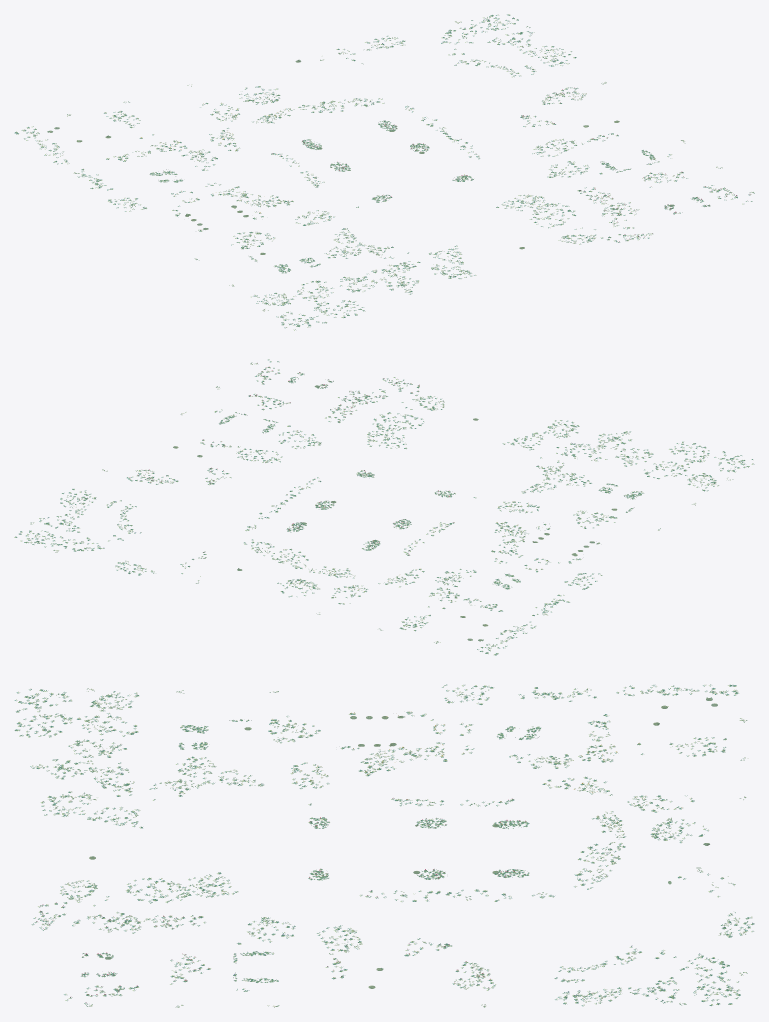
The model's file is sunwen-landscape-fast.glb.
3 views of the same model, one above another, from view 1: azimuth 30°, elevation 25°; view 2: azimuth 150°, elevation 25°; view 3: azimuth 270°, elevation 25° (orthographic). The views are drawn at different scales.
Visible parts, largest first — view 1: Sunwen_Tended_Beds_Low; view 2: Sunwen_Tended_Beds_Low; view 3: Sunwen_Tended_Beds_Low.
Boxes of the visible parts, x1,y1,x2,y2 form: Sunwen_Tended_Beds_Low: (14,14,754,330); Sunwen_Tended_Beds_Low: (14,359,754,655); Sunwen_Tended_Beds_Low: (14,684,754,1007).
Bounding box in the file's own units: 291 × 8.92 × 281.
